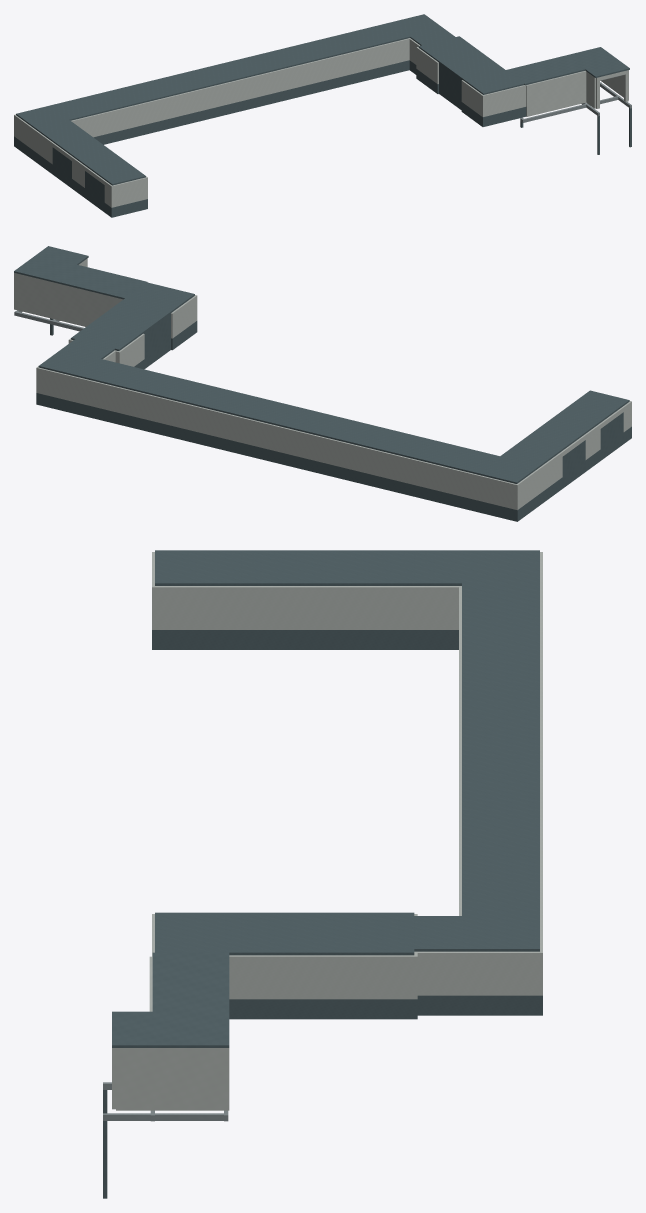
Rendered from AST-RES-TIDAL_D17_service_receiving_r001.glb.
3 views of the same model, one above another, from view 1: azimuth 30°, elevation 25°; view 2: azimuth 150°, elevation 25°; view 3: azimuth 270°, elevation 25° (orthographic). The views are drawn at different scales.
Parts seen in each view (by area): view 1: D17_LinkNorthShortWall, D17_LinkRoofEastRun, TidalStaffRoof_D17_-3_-62_0, TidalStaffRoof_D17_-8_-63_0, TidalStaffWallHigh_D17_-4_-63_0, TidalStaffWallHigh_D17_-7_-63_0, TidalStaffWallHigh_D17_-5_-63_0, TidalStaffWallHigh_D17_-6_-63_0, TidalStaffRoof_D17_-5_-63_0, TidalStaffRoof_D17_-6_-63_0, TidalStaffRoof_D17_-4_-63_0, TidalStaffRoof_D17_-7_-63_0 (+25 smaller); view 2: D17_LinkSouthWall, TidalStaffWallHigh_D17_-8_-63_1, D17_LinkRoofEastRun, TidalStaffRoof_D17_-3_-62_0, TidalStaffRoof_D17_-8_-63_0, TidalStaffWallHigh_D17_-7_-63_1, TidalStaffWallHigh_D17_-4_-63_1, TidalStaffWallHigh_D17_-5_-63_1, TidalStaffWallHigh_D17_-6_-63_1, TidalStaffRoof_D17_-6_-63_0, TidalStaffRoof_D17_-7_-63_0, TidalStaffRoof_D17_-5_-63_0 (+19 smaller); view 3: TidalStaffWallHigh_D17_-3_-62_1, TidalStaffWallHigh_D17_-8_-62_0, TidalStaffRoof_D17_-3_-62_0, D17_LinkRoofEastRun, D17_LinkOuterEastWall, TidalStaffRoof_D17_-8_-63_0, TidalStaffRoof_D17_-8_-62_0, TidalStaffWallHigh_D17_-3_-63_1, TidalStaffRoof_D17_-7_-63_0, TidalStaffRoof_D17_-6_-63_0, TidalStaffRoof_D17_-5_-63_0, TidalStaffRoof_D17_-4_-63_0 (+12 smaller).
Boxes of the visible parts, left/top/right/bottom form: D17_LinkNorthShortWall: left=526, top=70, right=586, bottom=116; D17_LinkRoofEastRun: left=506, top=47, right=619, bottom=85; TidalStaffRoof_D17_-3_-62_0: left=418, top=36, right=502, bottom=77; TidalStaffRoof_D17_-8_-63_0: left=16, top=98, right=99, bottom=137; TidalStaffWallHigh_D17_-4_-63_0: left=324, top=41, right=399, bottom=80; TidalStaffWallHigh_D17_-7_-63_0: left=99, top=95, right=174, bottom=135; TidalStaffWallHigh_D17_-5_-63_0: left=249, top=59, right=324, bottom=98; TidalStaffWallHigh_D17_-6_-63_0: left=174, top=77, right=249, bottom=117; TidalStaffRoof_D17_-5_-63_0: left=230, top=43, right=323, bottom=77; TidalStaffRoof_D17_-6_-63_0: left=155, top=61, right=248, bottom=95; TidalStaffRoof_D17_-4_-63_0: left=305, top=25, right=398, bottom=58; TidalStaffRoof_D17_-7_-63_0: left=80, top=80, right=173, bottom=113; D17_LinkSouthWall: left=14, top=273, right=123, bottom=326; TidalStaffWallHigh_D17_-8_-63_1: left=441, top=457, right=554, bottom=510; D17_LinkRoofEastRun: left=14, top=255, right=147, bottom=299; TidalStaffRoof_D17_-3_-62_0: left=71, top=301, right=169, bottom=350; TidalStaffRoof_D17_-8_-63_0: left=442, top=446, right=553, bottom=483; TidalStaffWallHigh_D17_-7_-63_1: left=353, top=444, right=441, bottom=491; TidalStaffWallHigh_D17_-4_-63_1: left=90, top=380, right=178, bottom=427; TidalStaffWallHigh_D17_-5_-63_1: left=178, top=402, right=266, bottom=448; TidalStaffWallHigh_D17_-6_-63_1: left=266, top=423, right=353, bottom=469; TidalStaffRoof_D17_-6_-63_0: left=266, top=405, right=376, bottom=444; TidalStaffRoof_D17_-7_-63_0: left=354, top=426, right=464, bottom=465; TidalStaffRoof_D17_-5_-63_0: left=179, top=383, right=288, bottom=422; TidalStaffWallHigh_D17_-3_-62_1: left=241, top=955, right=414, bottom=999; TidalStaffWallHigh_D17_-8_-62_0: left=241, top=586, right=414, bottom=629; TidalStaffRoof_D17_-3_-62_0: left=241, top=912, right=414, bottom=955; D17_LinkRoofEastRun: left=152, top=952, right=229, bottom=1047; D17_LinkOuterEastWall: left=116, top=1048, right=226, bottom=1110; TidalStaffRoof_D17_-8_-63_0: left=414, top=550, right=539, bottom=612; TidalStaffRoof_D17_-8_-62_0: left=241, top=550, right=414, bottom=585; TidalStaffWallHigh_D17_-3_-63_1: left=414, top=907, right=542, bottom=999; TidalStaffRoof_D17_-7_-63_0: left=462, top=612, right=539, bottom=685; TidalStaffRoof_D17_-6_-63_0: left=462, top=685, right=539, bottom=758; TidalStaffRoof_D17_-5_-63_0: left=462, top=758, right=539, bottom=831; TidalStaffRoof_D17_-4_-63_0: left=462, top=832, right=539, bottom=904.
Size of the model in its own units: 54.28 by 7.84 by 20.34.
4 materials, 4 textured.
